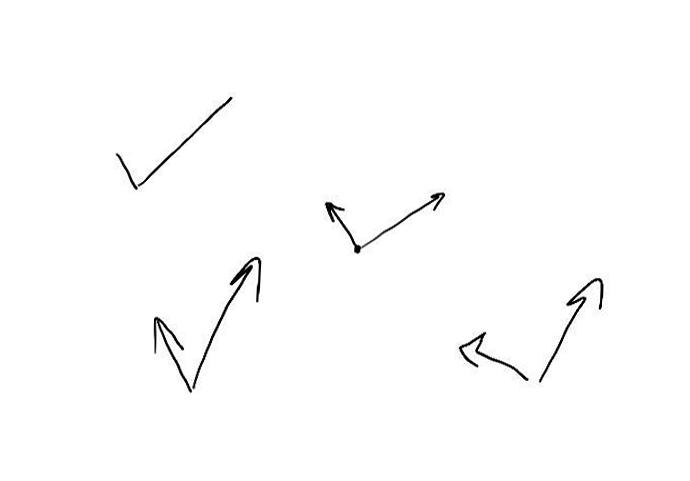arrow: (193, 256, 262, 387), (541, 276, 605, 379), (361, 192, 445, 247), (456, 328, 529, 379), (150, 313, 193, 392), (325, 200, 354, 248)
arrownohead: (137, 95, 232, 181), (115, 149, 138, 191)
